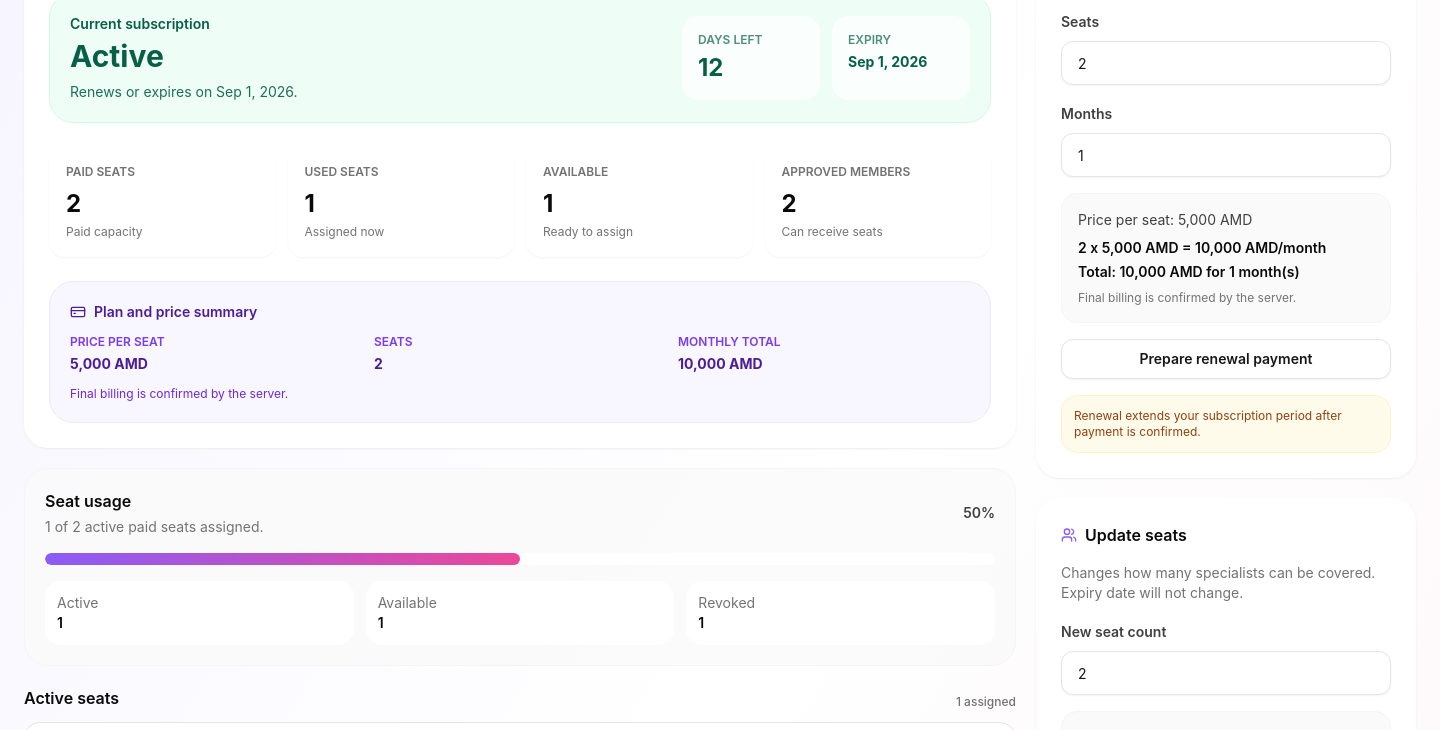
Scenario: SalonBillingPage › keeps StrictMode actions functional after the dev effect cycle
(page scrolled)
Click the button "Prepare renewal payment". click: (1226, 359)
box: [1061,339,1391,379]
(page scrolled)
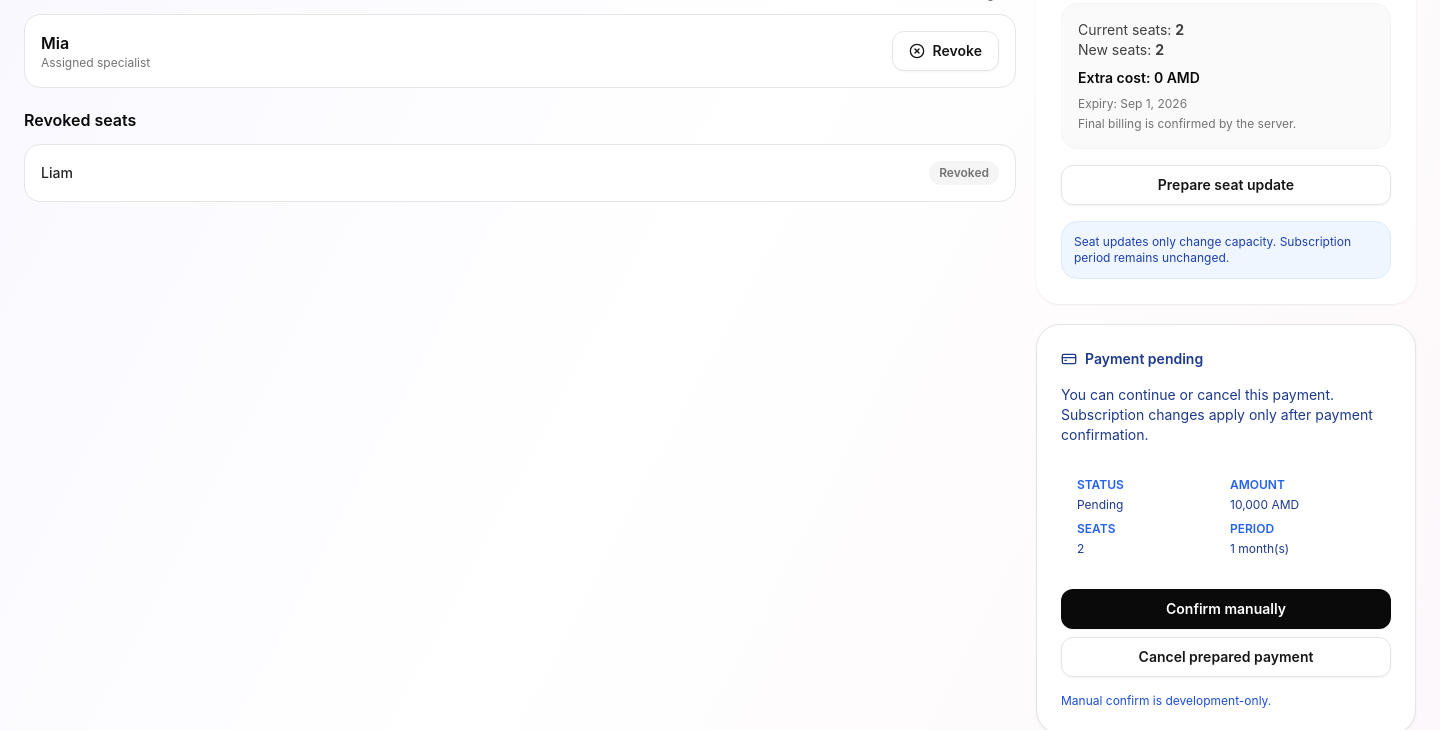
Expected: the text "Payment pending" is shown, [1061,350,1203,367]
